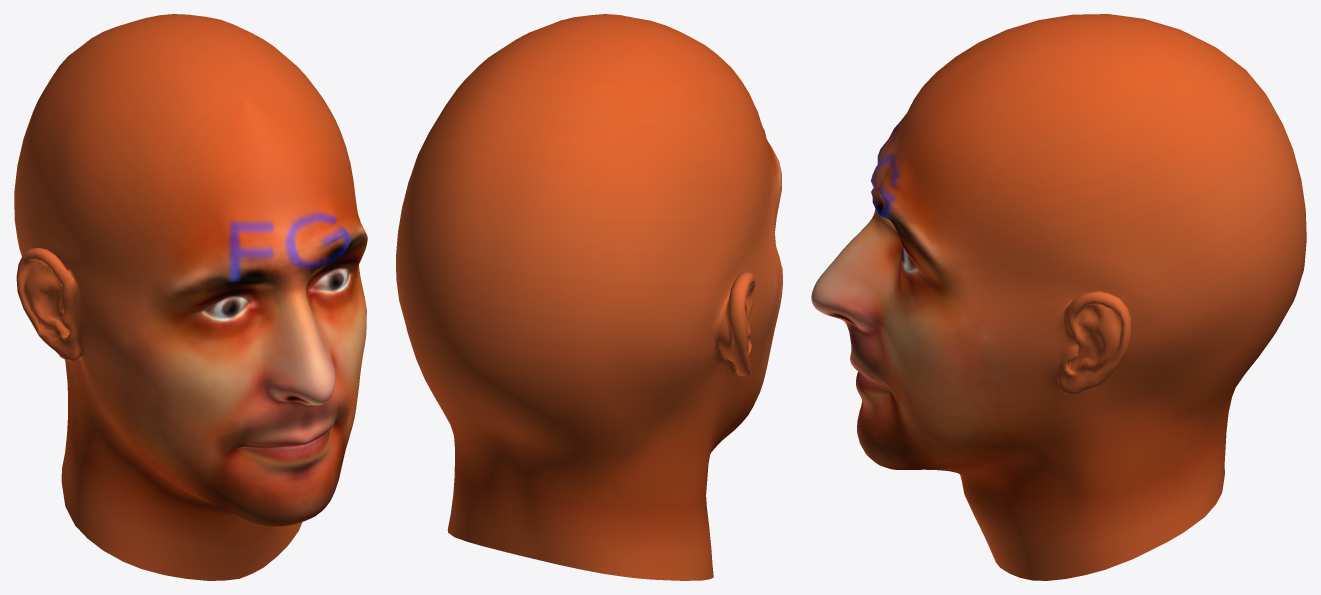
File: random_anyrace_anysex_20.obj
3 renders of one model, left to right at view 1: azimuth 30°, elevation 25°; view 2: azimuth 150°, elevation 25°; view 3: azimuth 270°, elevation 25°, orthographic. The views are drawn at different scales.
Visible parts, largest first — view 1: HeadHires; view 2: HeadHires; view 3: HeadHires.
Part boxes in pixels (left/top/right/bottom): HeadHires: left=14, top=14, right=367, bottom=580; HeadHires: left=396, top=14, right=782, bottom=580; HeadHires: left=811, top=14, right=1306, bottom=580.
Size of the model in its own units: 185 by 283 by 241.
Materials: 3 (3 with a texture image).
